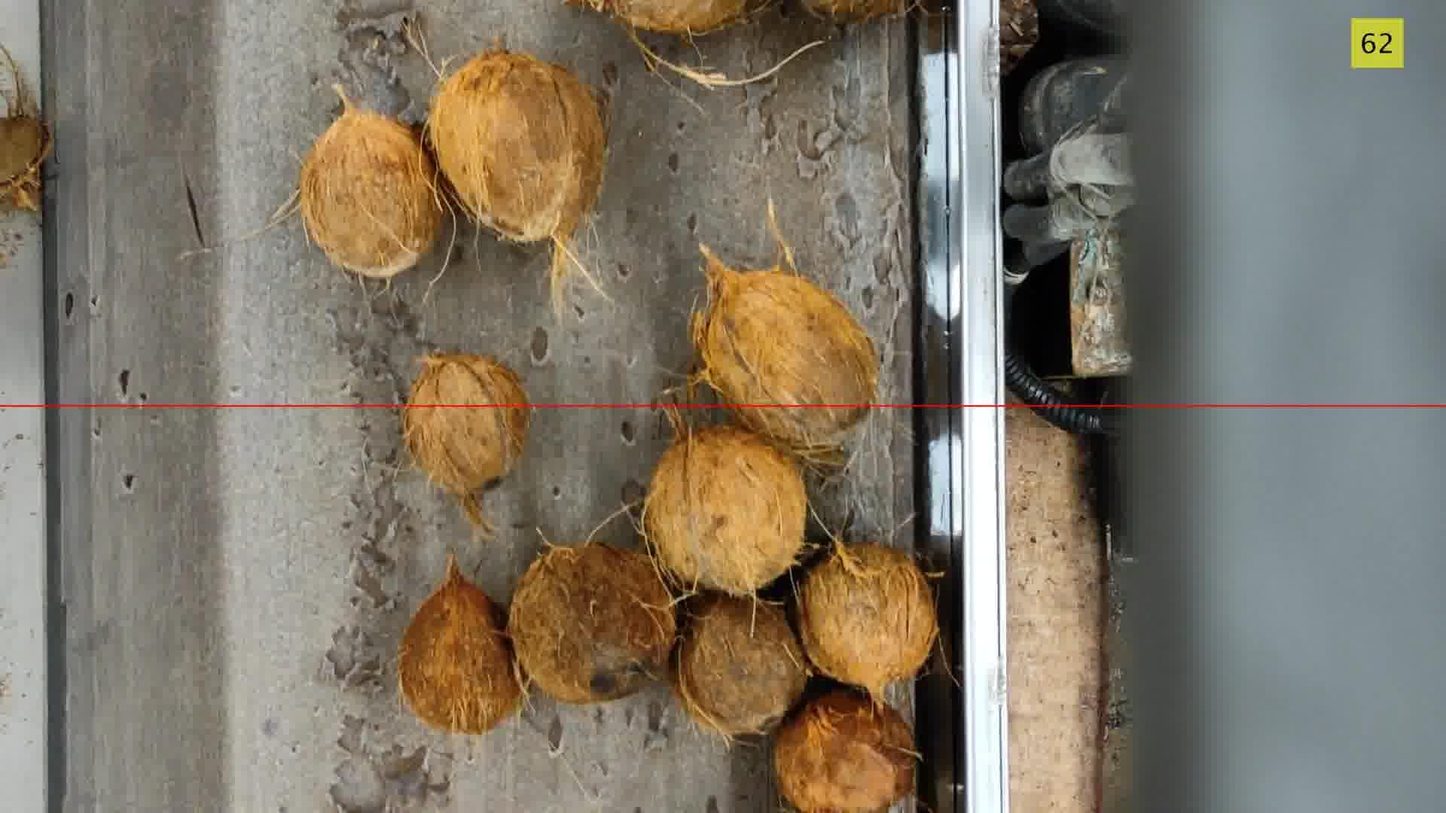Coconut: (426, 49, 606, 283), (691, 248, 879, 460), (642, 425, 807, 595), (508, 543, 676, 703), (297, 109, 445, 279), (401, 354, 530, 524), (795, 544, 938, 697), (398, 559, 521, 733), (674, 594, 809, 736), (773, 689, 916, 812), (0, 46, 53, 210), (569, 0, 760, 35), (803, 0, 909, 23)
